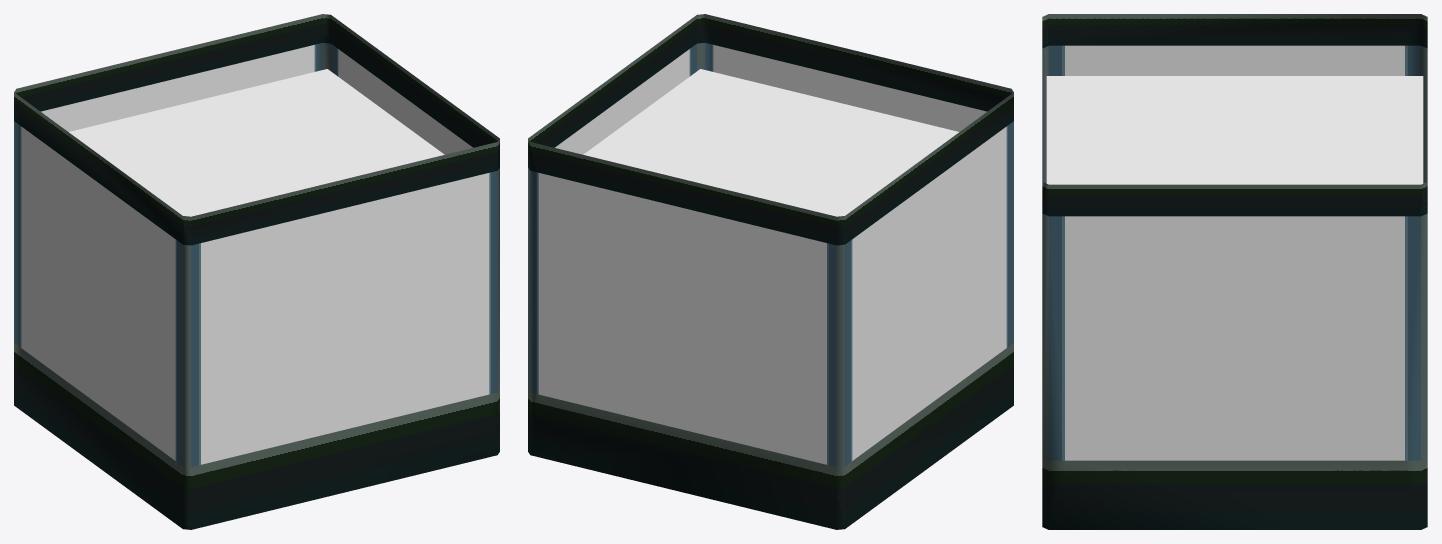
The model's file is int_sea_sazae.dae.
3 renders of one model, left to right at view 1: azimuth 30°, elevation 25°; view 2: azimuth 150°, elevation 25°; view 3: azimuth 270°, elevation 25°, orthographic. The views are drawn at different scales.
Parts seen in each view (by area): view 1: int_sea_sazae; view 2: int_sea_sazae; view 3: int_sea_sazae.
Part boxes in pixels (left/top/right/bottom): int_sea_sazae: left=14, top=14, right=499, bottom=529; int_sea_sazae: left=528, top=14, right=1013, bottom=529; int_sea_sazae: left=1042, top=14, right=1427, bottom=529.
Bounding box in the file's own units: 23.04 × 21.76 × 22.
4 materials, 2 textured.
